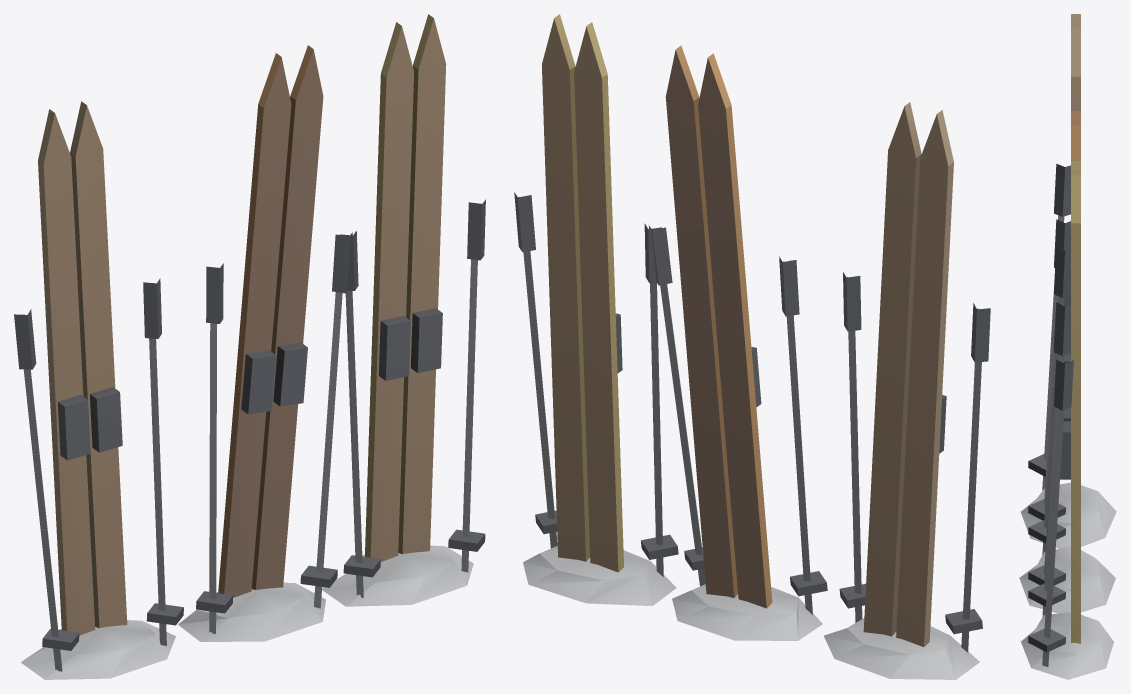
The model's file is skis.lod1.glb.
3 renders of one model, left to right at view 1: azimuth 30°, elevation 25°; view 2: azimuth 150°, elevation 25°; view 3: azimuth 270°, elevation 25°, orthographic. The views are drawn at different scales.
Bounding box in the file's own units: 1.53 × 1.72 × 0.3111.
